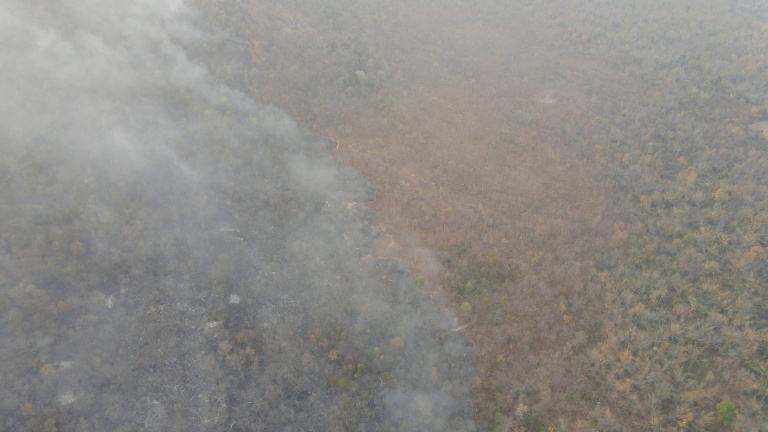smoke: (1, 80, 479, 428), (1, 1, 237, 78)
